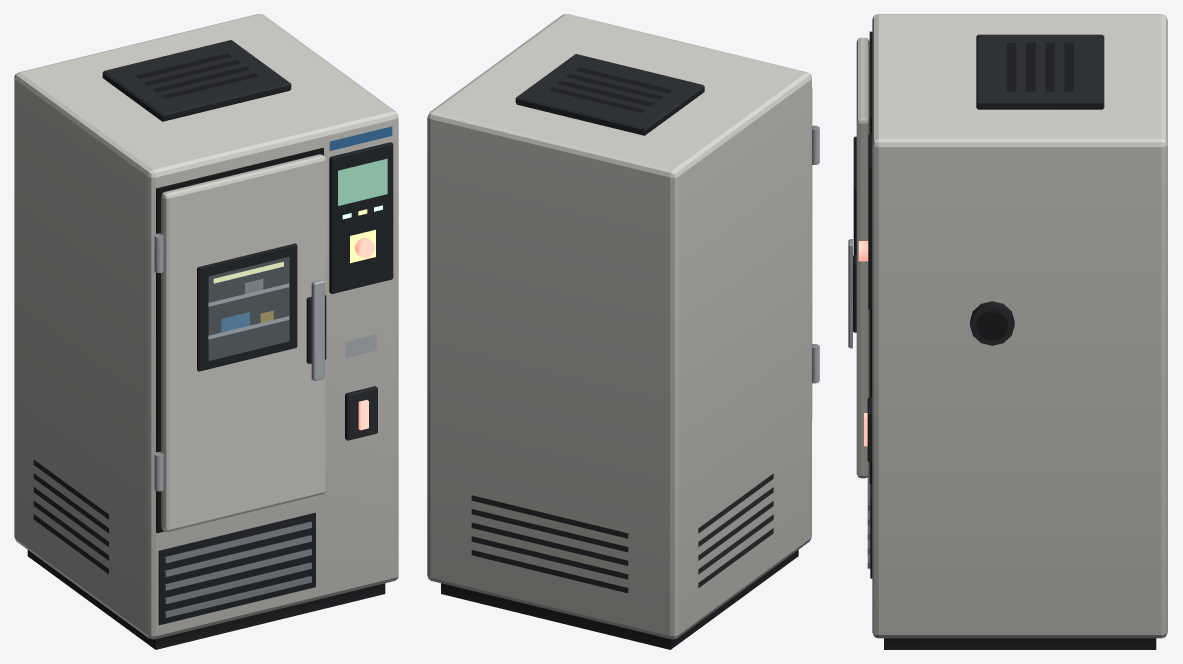
File: testChamber.glb
The picture shows the model from 3 angles, left to right: view 1: azimuth 30°, elevation 25°; view 2: azimuth 150°, elevation 25°; view 3: azimuth 270°, elevation 25°; orthographic projection. The views are drawn at different scales.
Parts seen in each view (by area): view 1: testChamber; view 2: testChamber; view 3: testChamber.
Part boxes in pixels (box(x1,y1,x2,y2)): testChamber: box(14, 14, 398, 649); testChamber: box(427, 14, 819, 649); testChamber: box(848, 14, 1167, 649).
Size of the model in its own units: 1 by 1.8 by 0.999.
